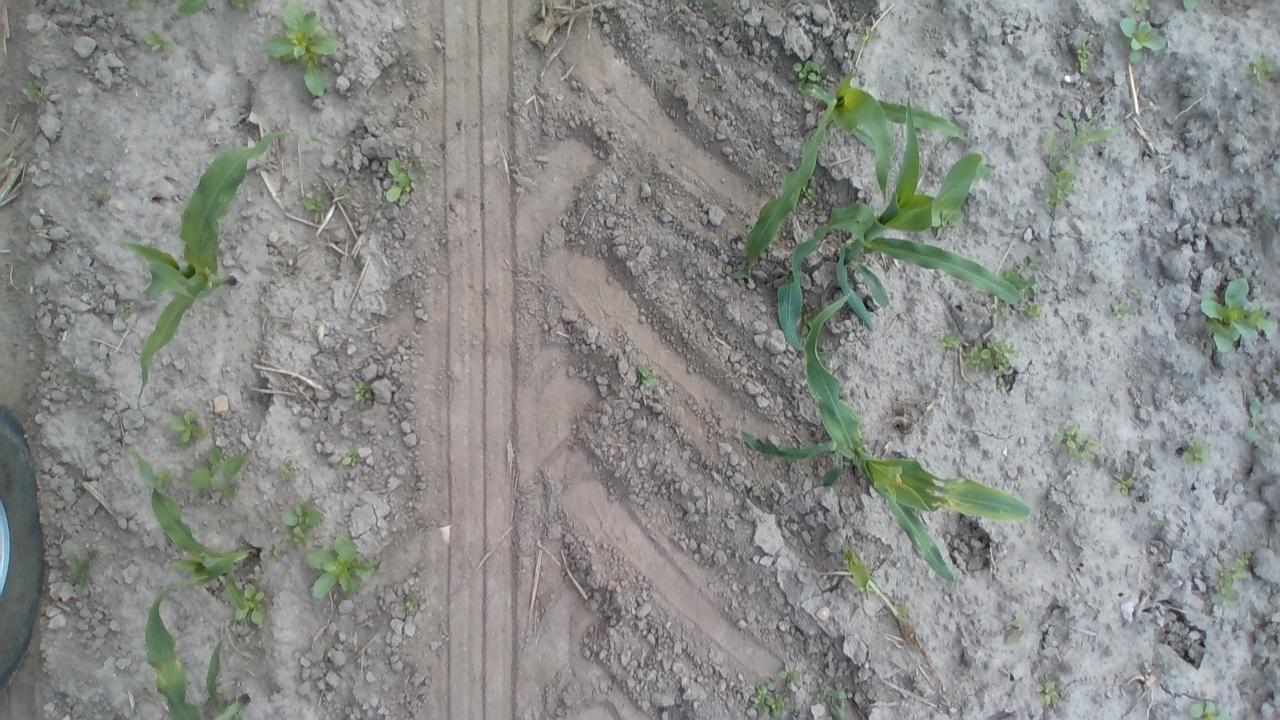Maize: (738, 289, 1040, 581), (744, 78, 1024, 336), (113, 129, 292, 419), (127, 451, 274, 628), (140, 588, 260, 718)
Weeds: (1036, 102, 1126, 222), (264, 5, 337, 104), (1197, 275, 1275, 366), (942, 322, 1023, 386), (306, 534, 379, 605), (1112, 0, 1168, 74), (189, 441, 255, 503), (1209, 548, 1259, 612), (1048, 418, 1104, 474), (223, 586, 280, 632), (277, 500, 328, 546), (1242, 395, 1278, 452), (1112, 279, 1152, 330), (382, 160, 422, 207), (743, 682, 798, 716), (62, 551, 106, 592), (1070, 35, 1103, 86), (168, 408, 206, 450), (296, 188, 338, 226), (16, 78, 56, 112), (346, 376, 381, 413), (1252, 48, 1280, 94), (630, 360, 664, 397), (138, 31, 184, 57), (786, 55, 824, 85), (1114, 473, 1140, 514), (774, 660, 802, 698), (1038, 680, 1074, 708), (1180, 703, 1239, 720), (824, 683, 850, 720), (338, 448, 376, 473), (1178, 443, 1210, 470), (274, 456, 300, 482), (1005, 608, 1029, 631)
